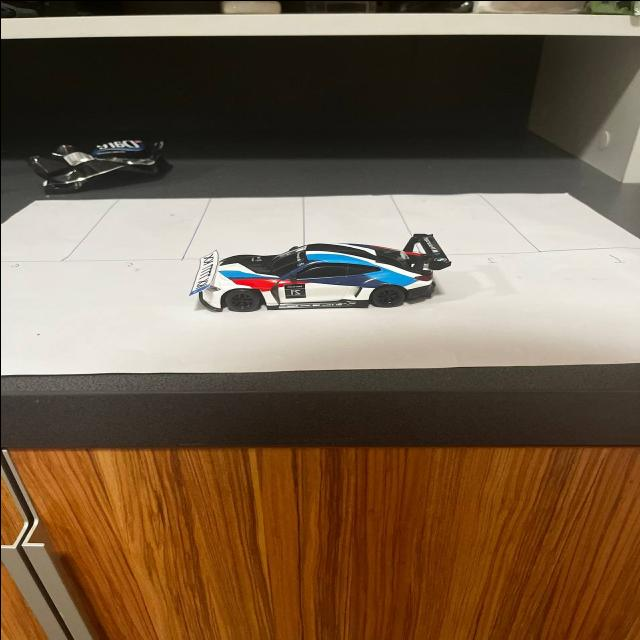cars: (160, 218, 490, 319)
